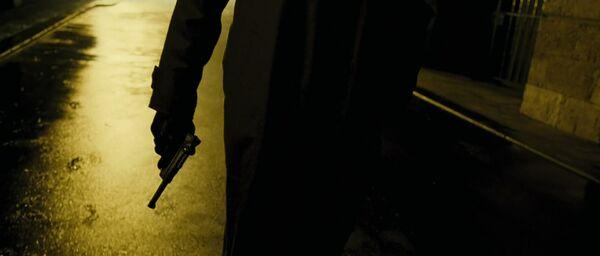Gun: (148, 130, 200, 210)
